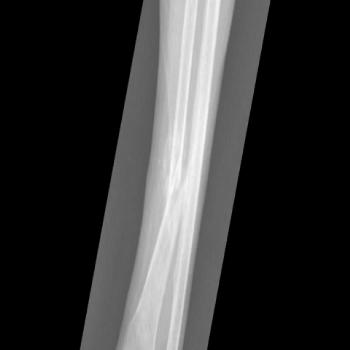Fracture: (163, 155, 186, 228)
